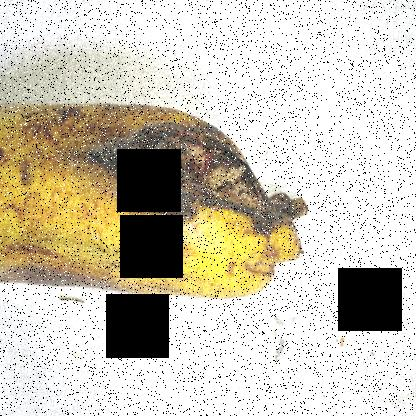ripe: (0, 87, 300, 314)
rotten: (68, 87, 318, 244), (0, 254, 133, 335)
